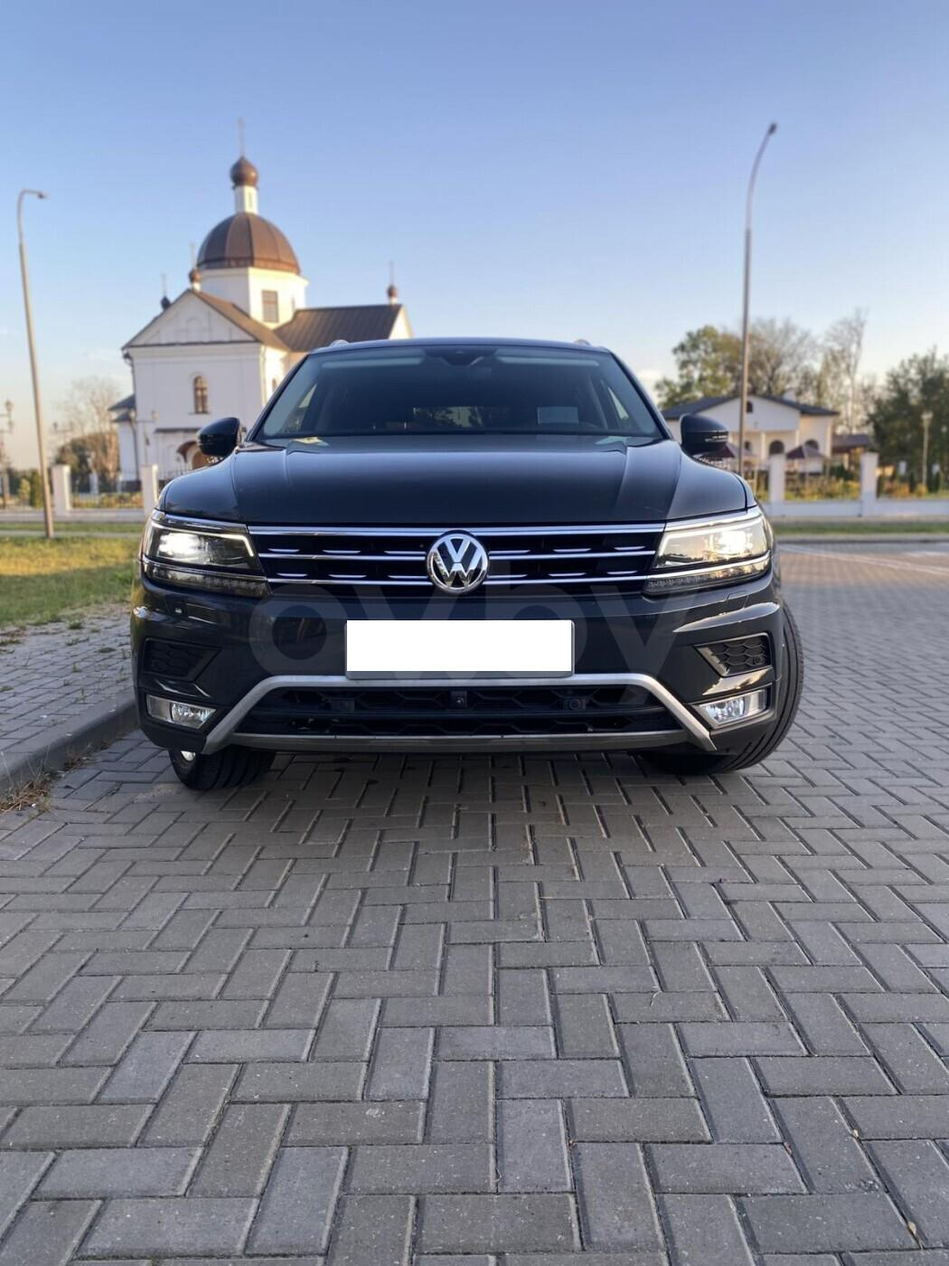Tiguan_2016-2021: (128, 327, 804, 796)
